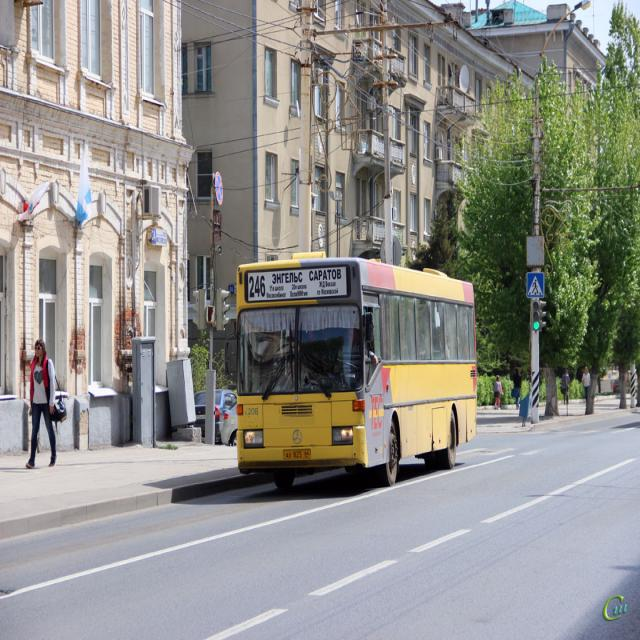number-of-bus: (250, 274, 266, 300)
